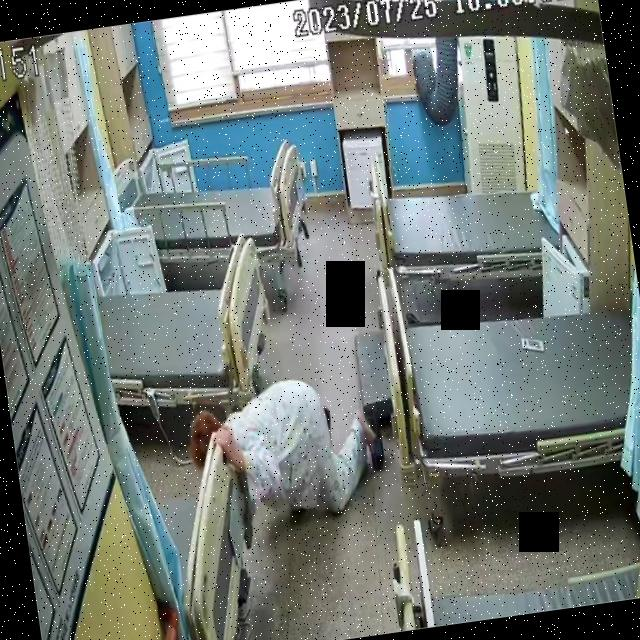bed: (397, 283, 640, 488), (90, 230, 286, 430), (111, 135, 312, 281), (369, 150, 565, 295)
fall: (189, 355, 383, 535)
patient: (188, 356, 382, 534)
